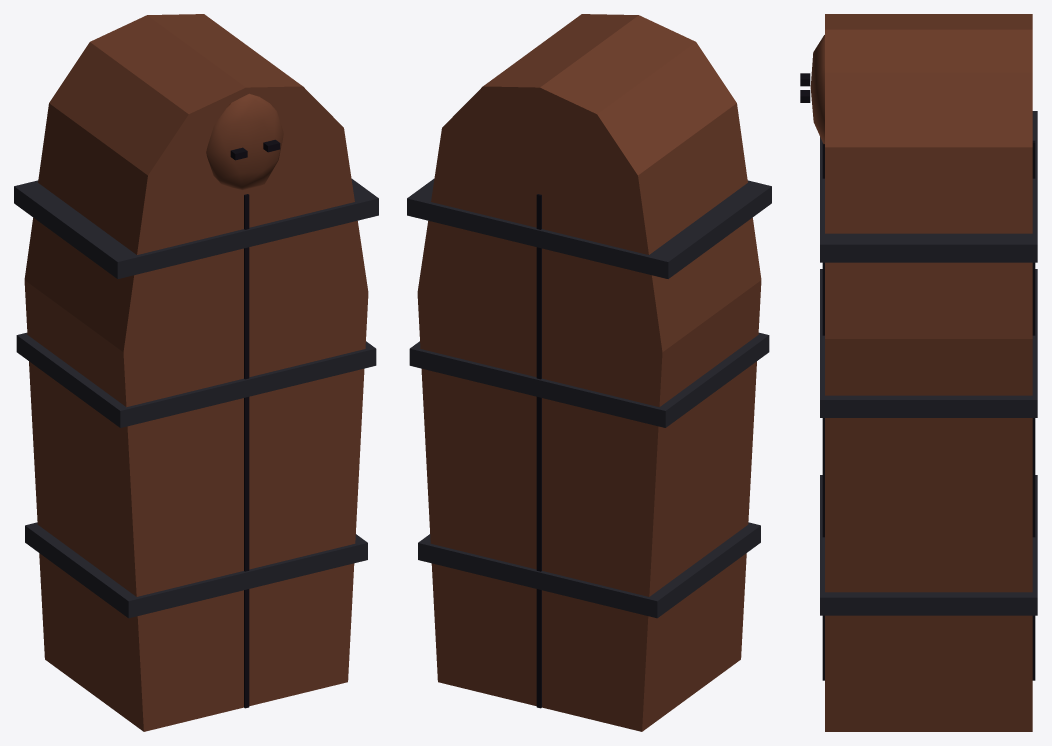
File: iron_maiden.glb
3 views of the same model, side by side, from view 1: azimuth 30°, elevation 25°; view 2: azimuth 150°, elevation 25°; view 3: azimuth 270°, elevation 25° (orthographic). The views are drawn at different scales.
Parts seen in each view (by area): view 1: iron_maiden; view 2: iron_maiden; view 3: iron_maiden.
Part boxes in pixels (box(x1,y1,x2,y2)): iron_maiden: box(14, 14, 378, 731); iron_maiden: box(407, 14, 771, 731); iron_maiden: box(800, 14, 1037, 731).
Size of the model in its own units: 0.64 by 1.45 by 0.48.
